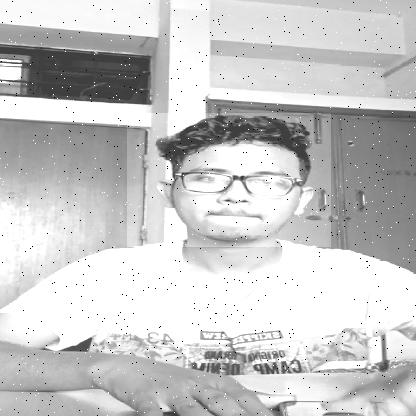Normal: (127, 113, 331, 247)
